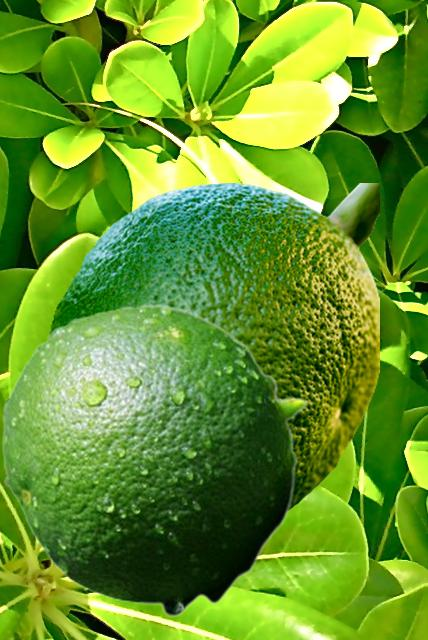dalandan: (47, 183, 378, 513), (1, 303, 307, 617)
